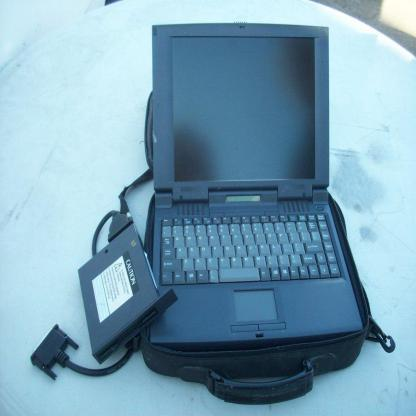board: (151, 22, 363, 355)
